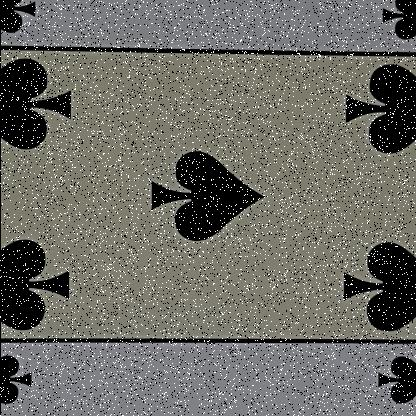5s: (346, 342, 415, 416), (1, 346, 53, 415), (361, 0, 415, 66)
